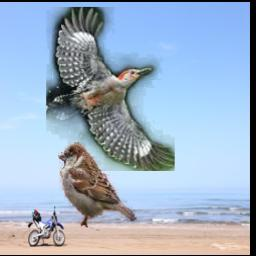Sparrow: (58, 142, 137, 227)
Woodpecker: (46, 7, 175, 171)
